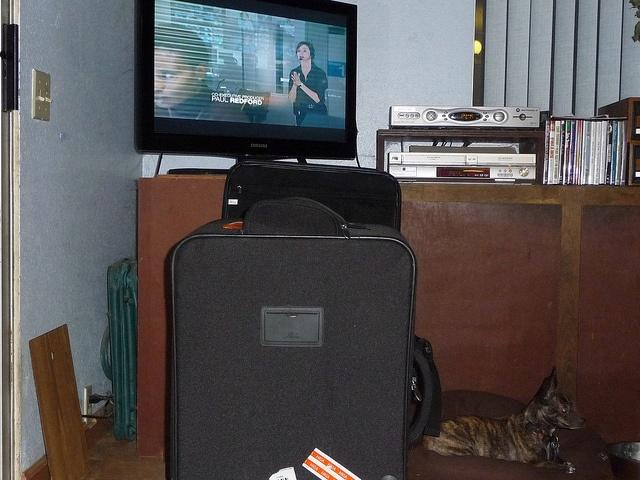AIO PC-Monitor-TV: (132, 0, 357, 159)
